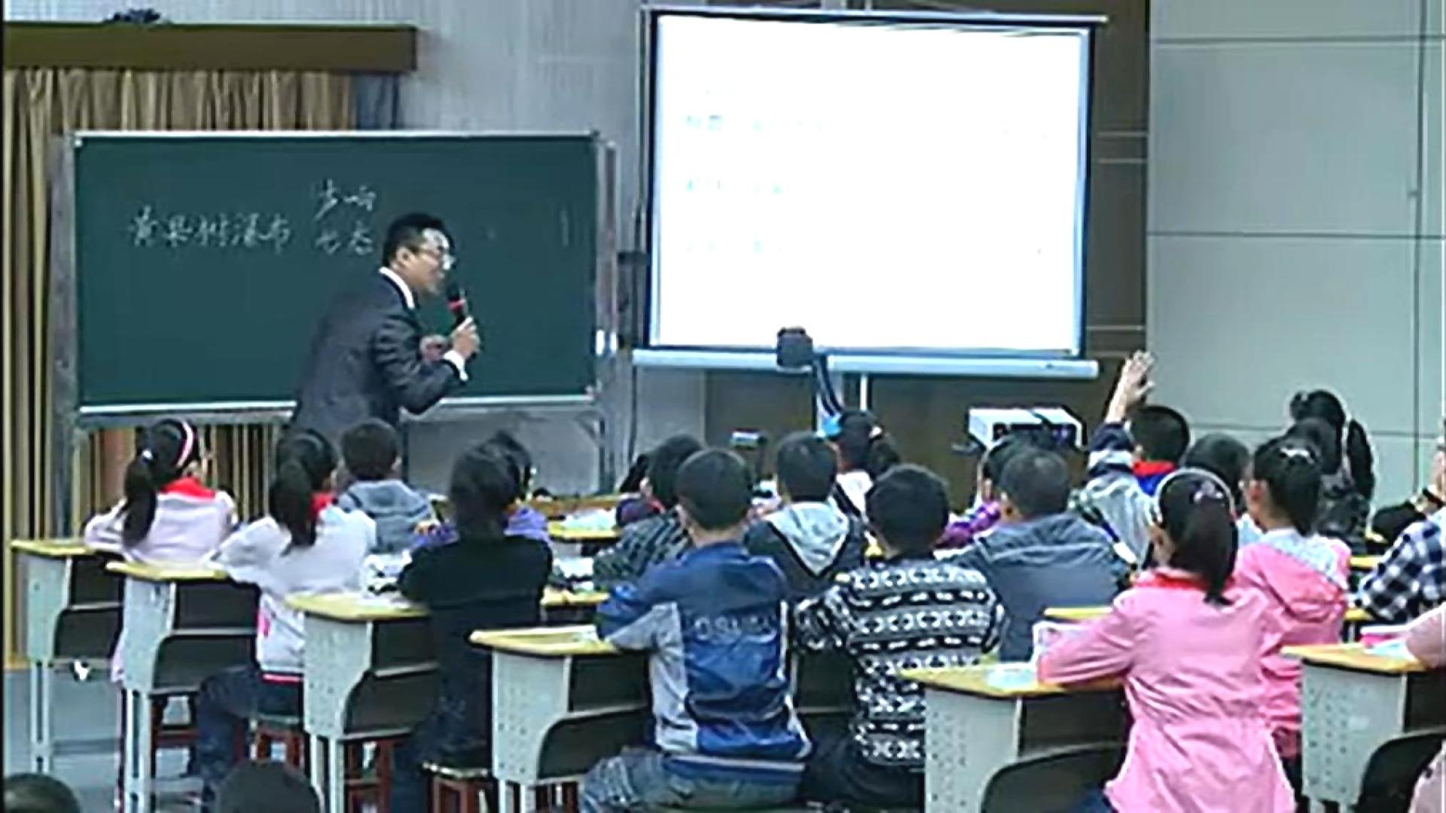Normal: (127, 415, 212, 551)
Stand Up: (292, 218, 476, 448)
Wave: (1077, 341, 1155, 429)
